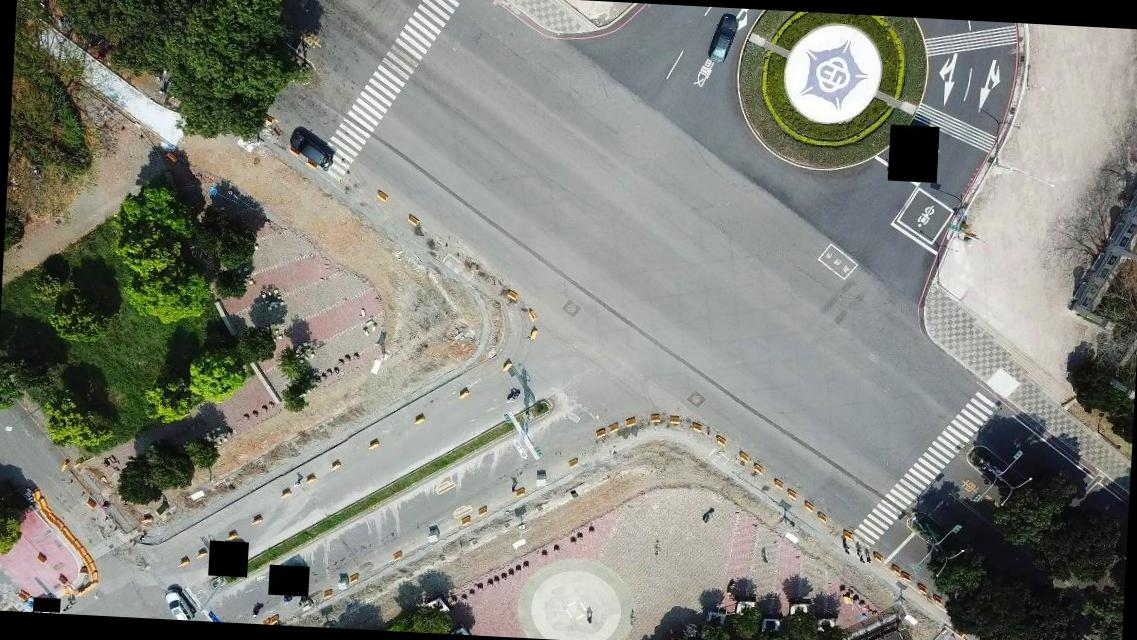vehicle: (288, 130, 335, 170), (706, 14, 740, 64), (160, 588, 198, 620)
